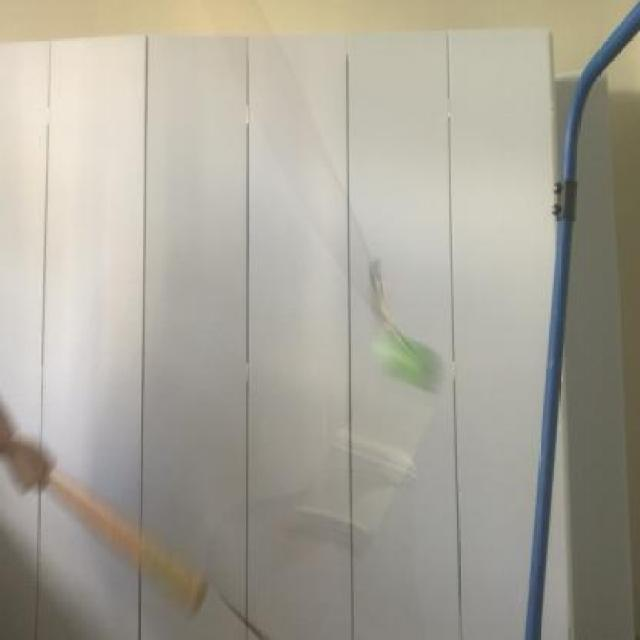baseball: (368, 324, 447, 391)
